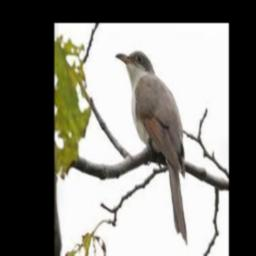Cuckoo: (115, 51, 187, 244)
